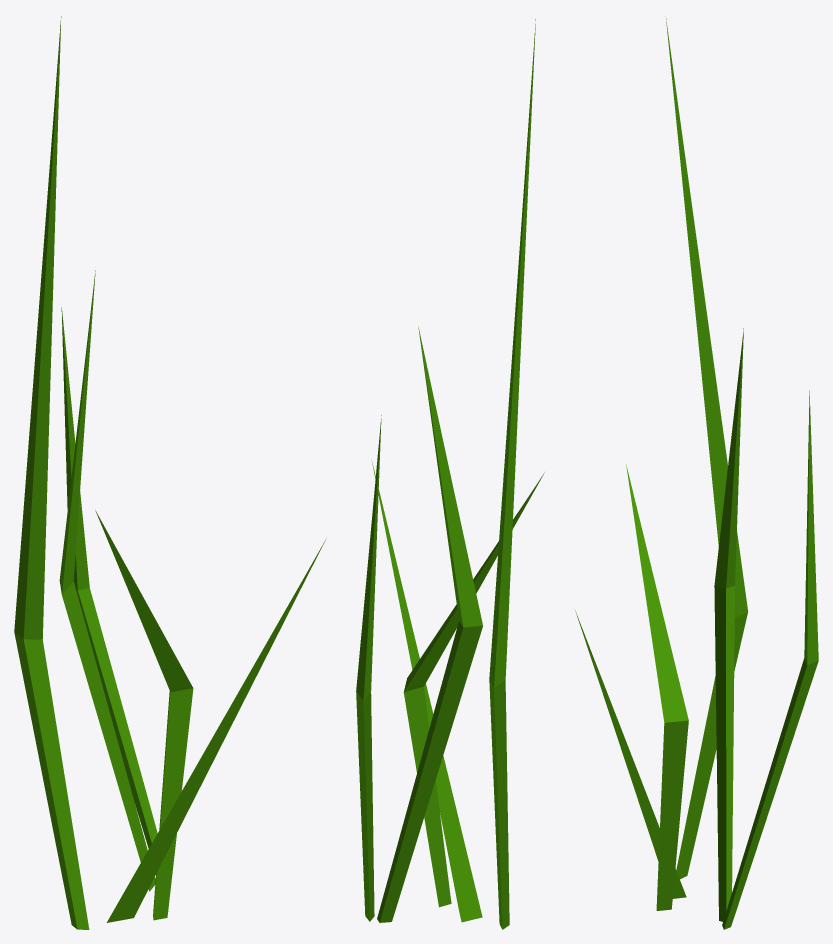
The model's file is Grass_1.fbx.
3 views of the same model, side by side, from view 1: azimuth 30°, elevation 25°; view 2: azimuth 150°, elevation 25°; view 3: azimuth 270°, elevation 25° (orthographic). The views are drawn at different scales.
Visible parts, largest first — view 1: Grass 1_LOD0; view 2: Grass 1_LOD0; view 3: Grass 1_LOD0.
Boxes of the visible parts, x1,y1,x2,y2 form: Grass 1_LOD0: (14, 16, 325, 929); Grass 1_LOD0: (356, 19, 544, 929); Grass 1_LOD0: (575, 16, 818, 929).
Size of what is drawn, in the model's own units: 6.07 by 24.44 by 6.34.
